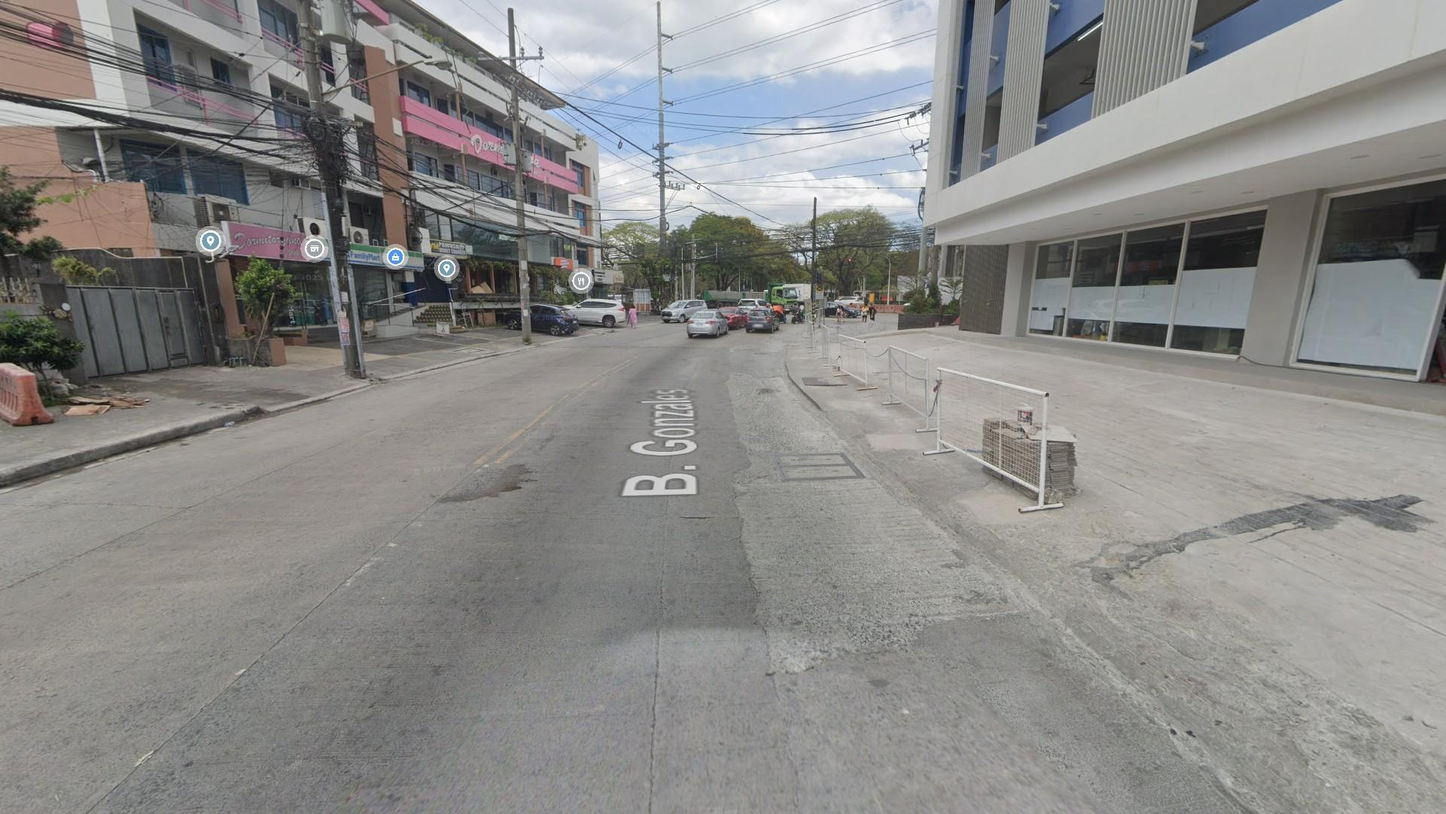pedestrian: (626, 305, 638, 329), (868, 302, 876, 323), (861, 303, 869, 322), (835, 305, 842, 323), (838, 305, 845, 322)
